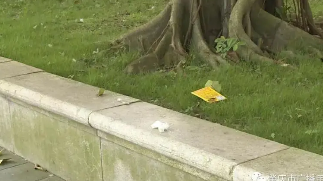garbage: (191, 81, 234, 120), (90, 90, 129, 109), (146, 119, 178, 140)
